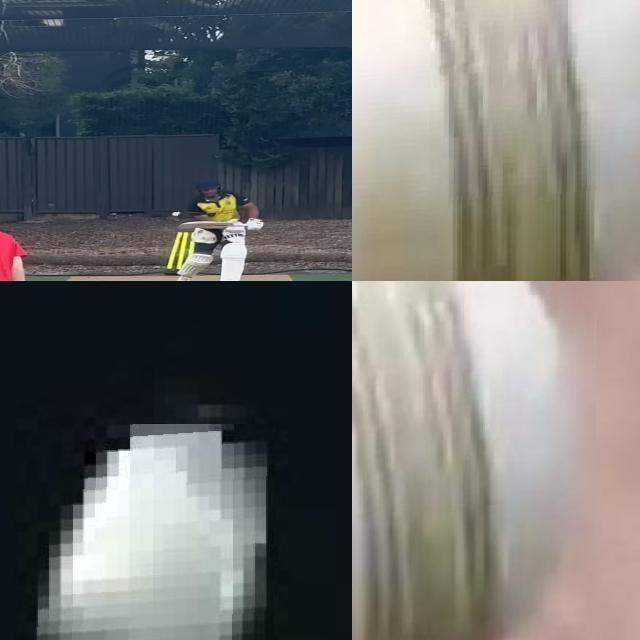Cricket ball: (352, 281, 598, 640), (352, 0, 640, 281), (35, 423, 274, 640), (170, 211, 182, 217)
Stumps: (160, 229, 192, 276)
